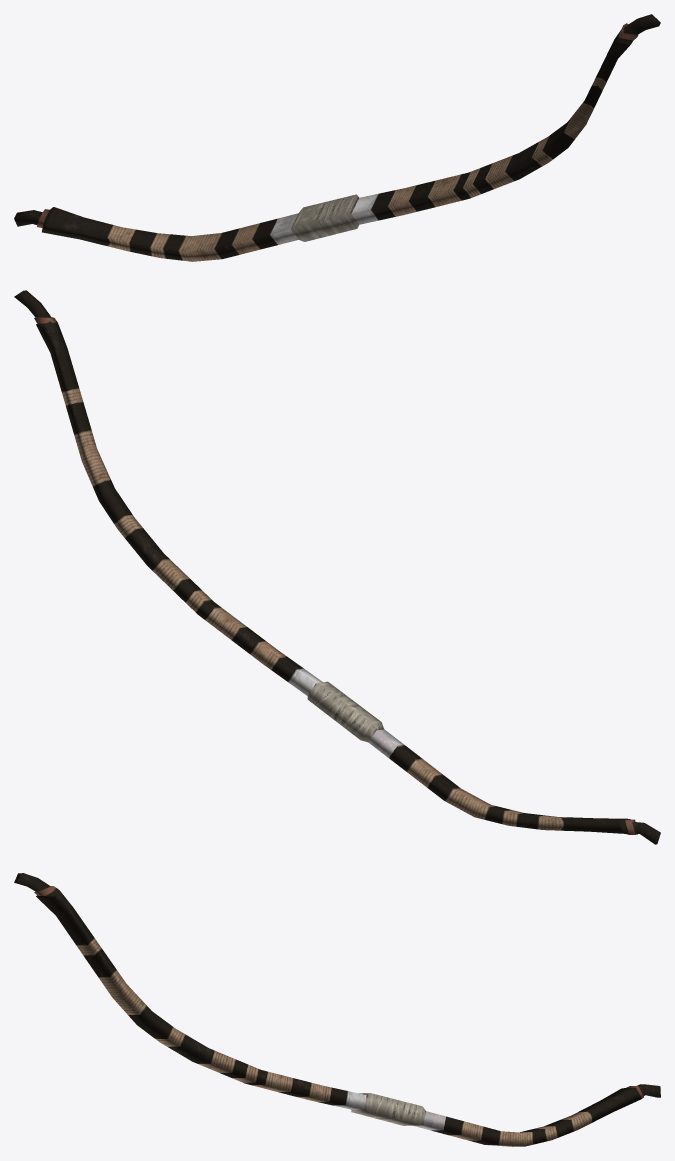
File: rider-weapon-slice-bronzeweapons.glb
3 views of the same model, one above another, from view 1: azimuth 30°, elevation 25°; view 2: azimuth 210°, elevation 25°; view 3: azimuth 270°, elevation 25° (orthographic). The views are drawn at different scales.
Size of the model in its own units: 0.7483 by 0.8936 by 1.42.
1 material, 1 textured.
